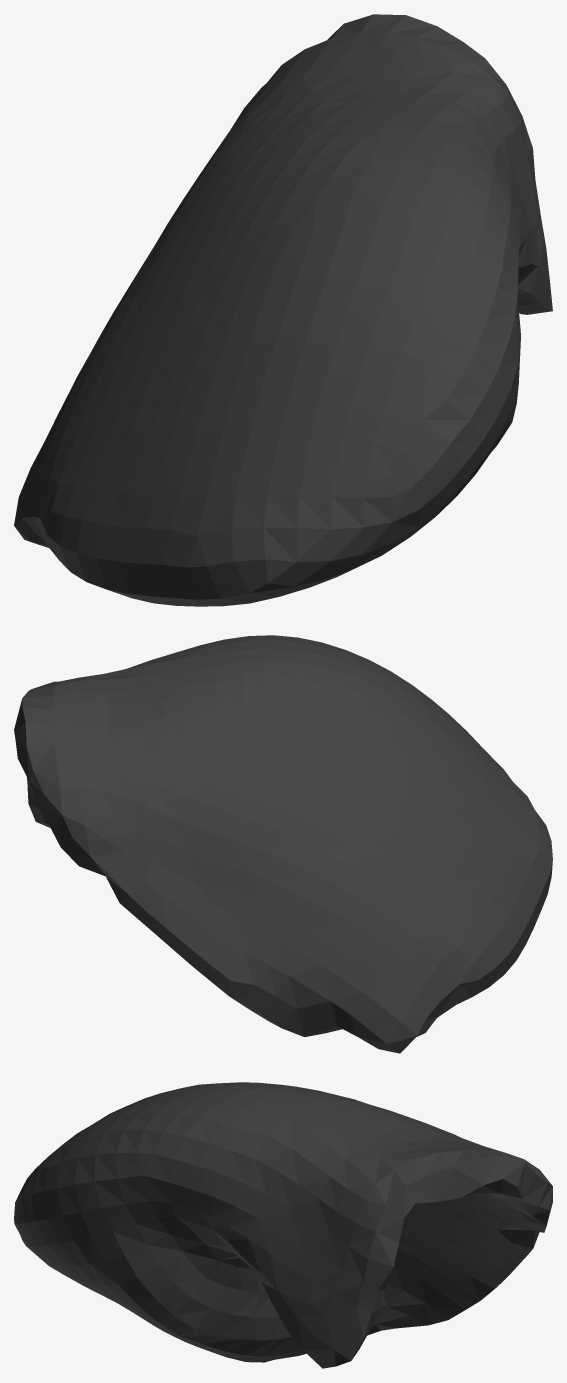
The model's file is AURICLE_L.glb.
The picture shows the model from 3 angles, top to bottom: view 1: azimuth 30°, elevation 25°; view 2: azimuth 150°, elevation 25°; view 3: azimuth 270°, elevation 25°; orthographic projection. The views are drawn at different scales.
Visible parts, largest first — view 1: AURICLE_L; view 2: AURICLE_L; view 3: AURICLE_L.
Part boxes in pixels (x1=…): AURICLE_L: x1=14, y1=14, x2=552, y2=606; AURICLE_L: x1=14, y1=635, x2=552, y2=1053; AURICLE_L: x1=14, y1=1082, x2=552, y2=1368.
Size of the model in its own units: 40.24 by 27.17 by 43.01.
1 material, 1 textured.
